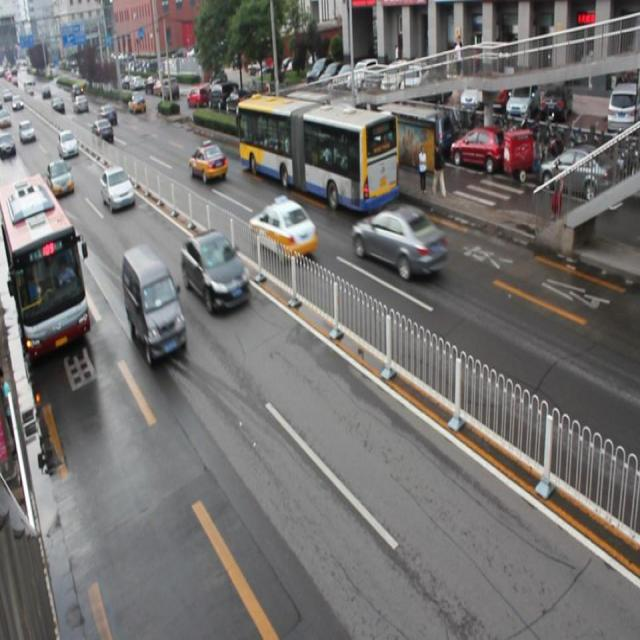car: (349, 207, 449, 279), (182, 228, 251, 312), (250, 194, 315, 258), (188, 141, 226, 180), (100, 166, 134, 209), (47, 156, 74, 197)
truck: (123, 245, 186, 363)
van: (235, 91, 396, 210), (1, 174, 91, 362)
